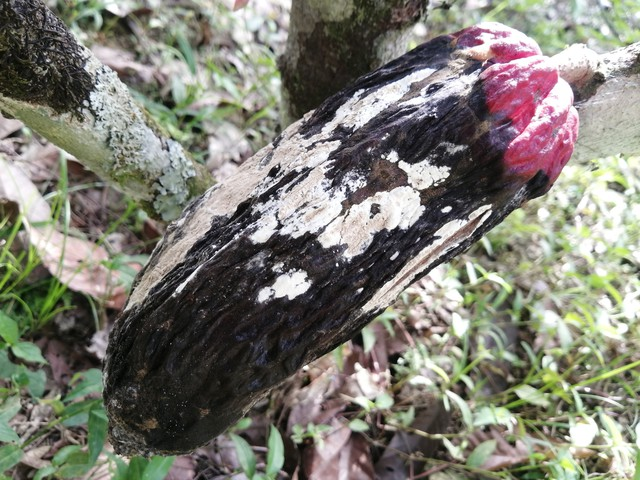moniliophthora roreri: (96, 15, 586, 463)
